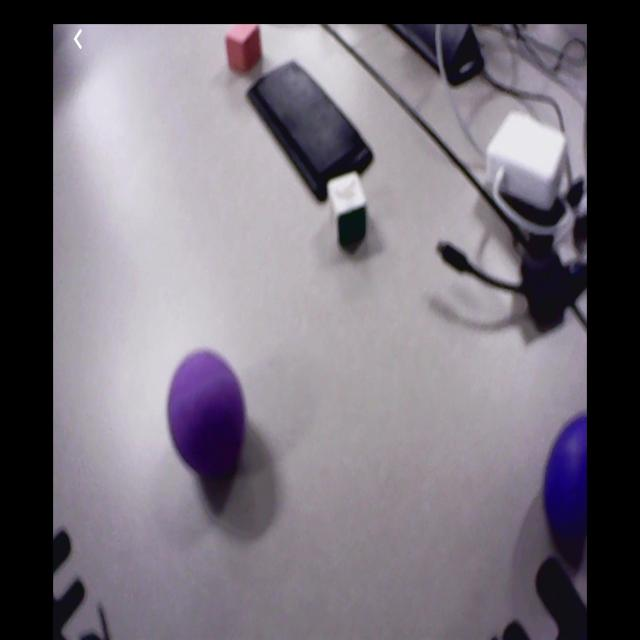ball: (169, 349, 247, 485), (545, 417, 589, 558)
